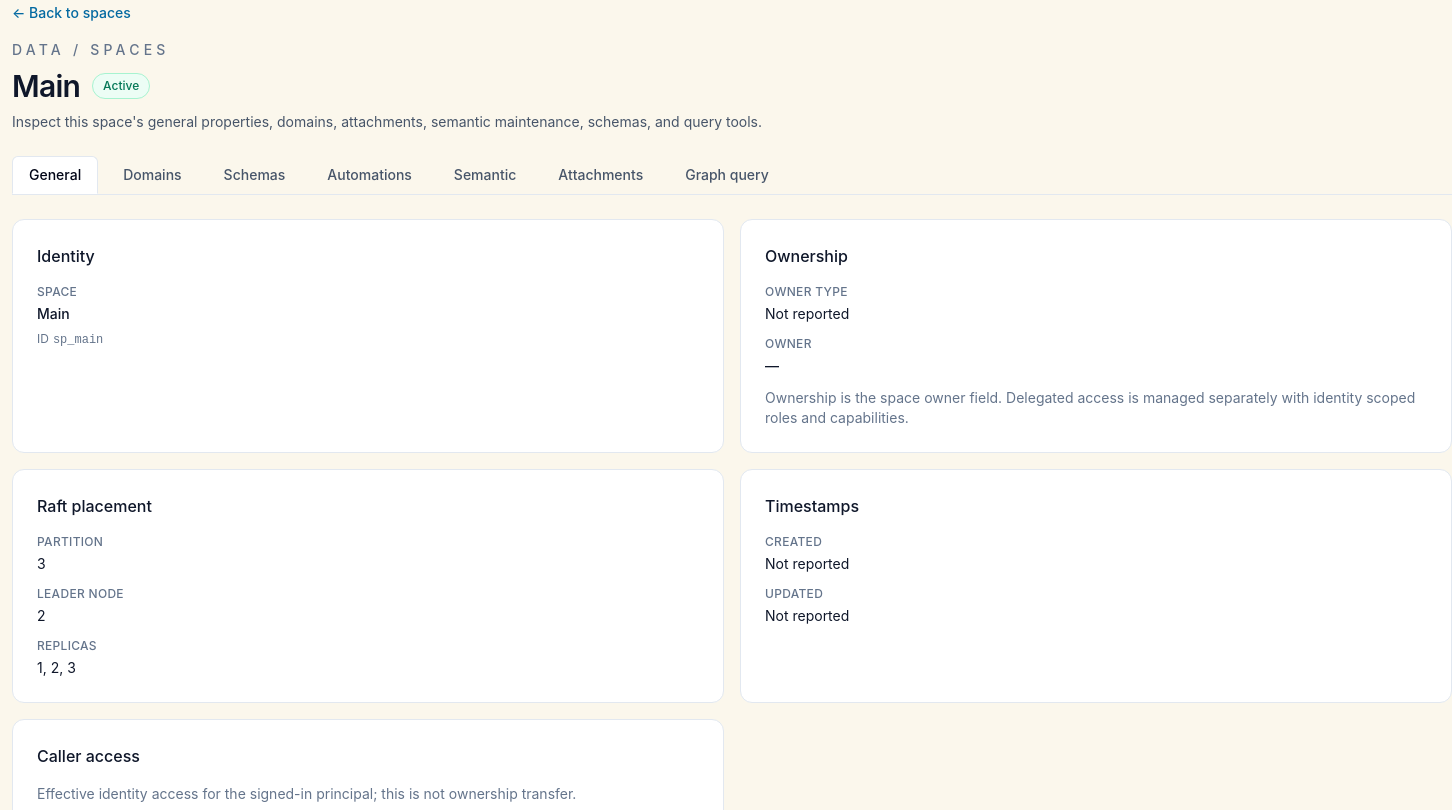
Test: uses current console principal for graph query without a separate client login
Expected: the heading "Main" is shown, [12,68,80,104]
Click the tab "Graph query" at (727, 175), box [668,156,786,194]
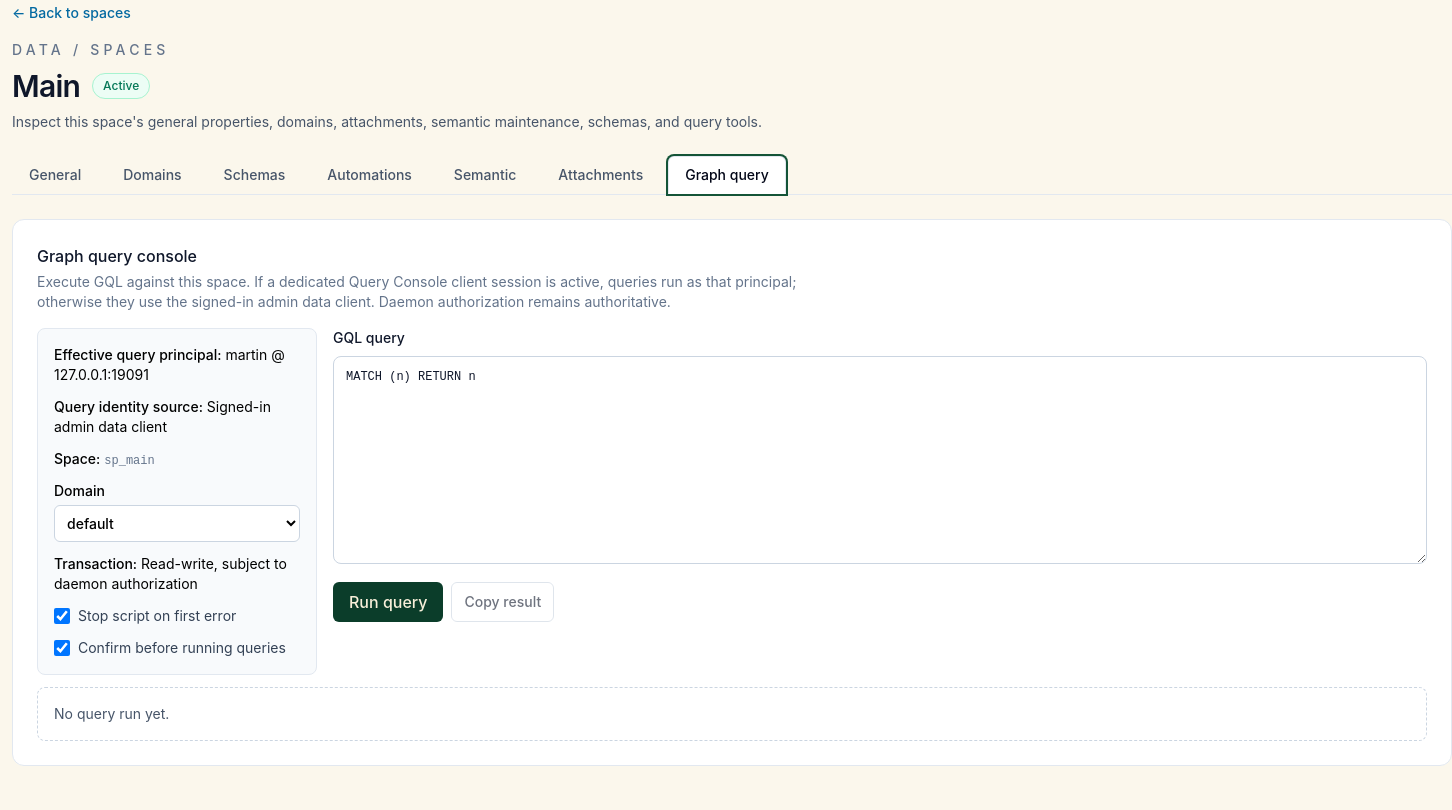
Now the text "Effective query principal: martin @ 127.0.0.1:19091" is shown, box [54,345,300,385]
Now the text "Transaction: Read-write, subject to daemon authorization" is shown, box [54,554,300,594]
Now the button "Run query" is enabled, box [333,582,443,622]
